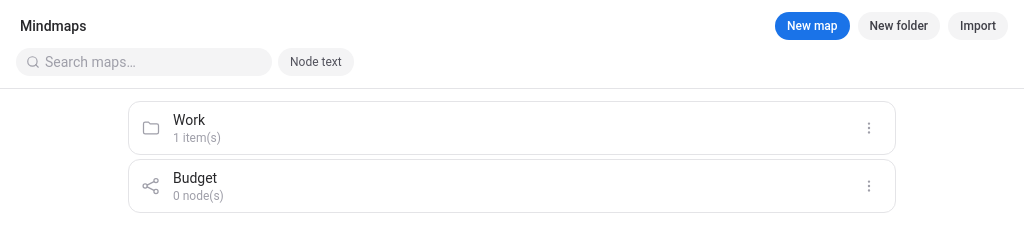
Scenario: MindmapBrowser — search › says when nothing matches, and suggests node text when it is off
Type "zebra" into the field named "Search mindmaps".
click(144, 62); type("zebra")  # box [16,48,272,76]
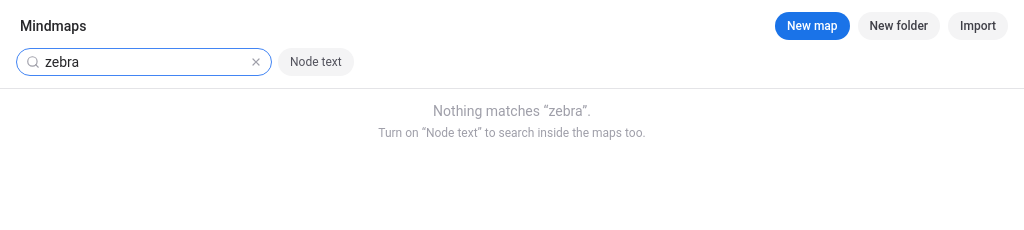
Check: the text "Nothing matches “zebra”." is shown, box [433,101,591,121]
Check: the text "Turn on “Node text” to search inside the maps too." is shown, box [378,125,646,141]
